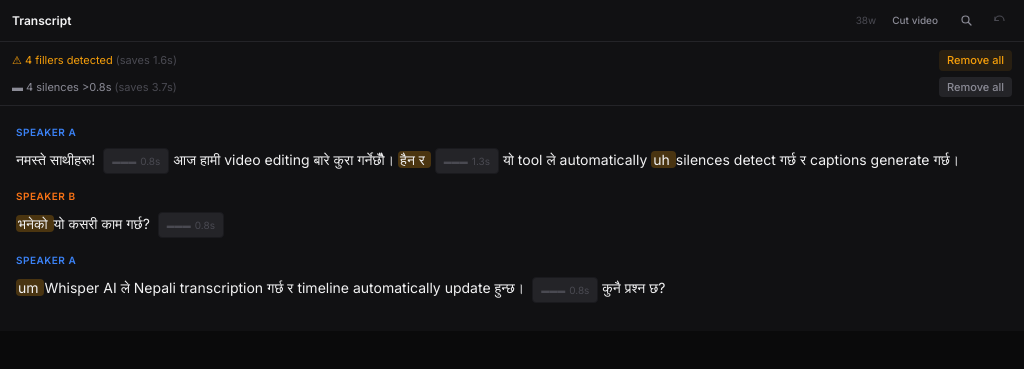
Scenario: TranscriptEditor — search › closes search bar when close button is clicked
Click the button with test id "open-search" at [966, 20], box [954,8,979,33]
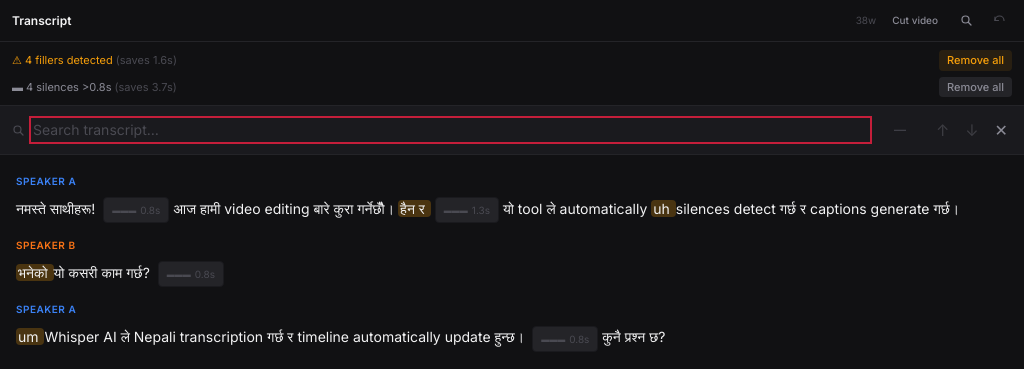
Click the button with test id "search-close" at [1001, 130], box [991,114,1012,146]
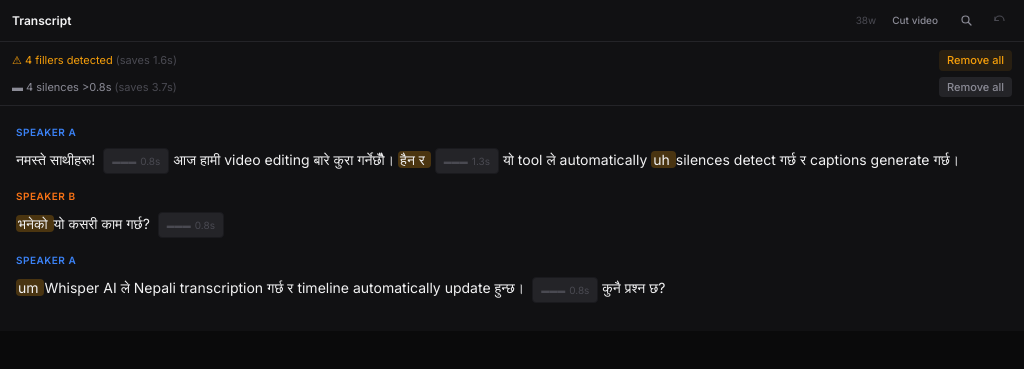
Expected: the element with test id "transcript-search" is gone
